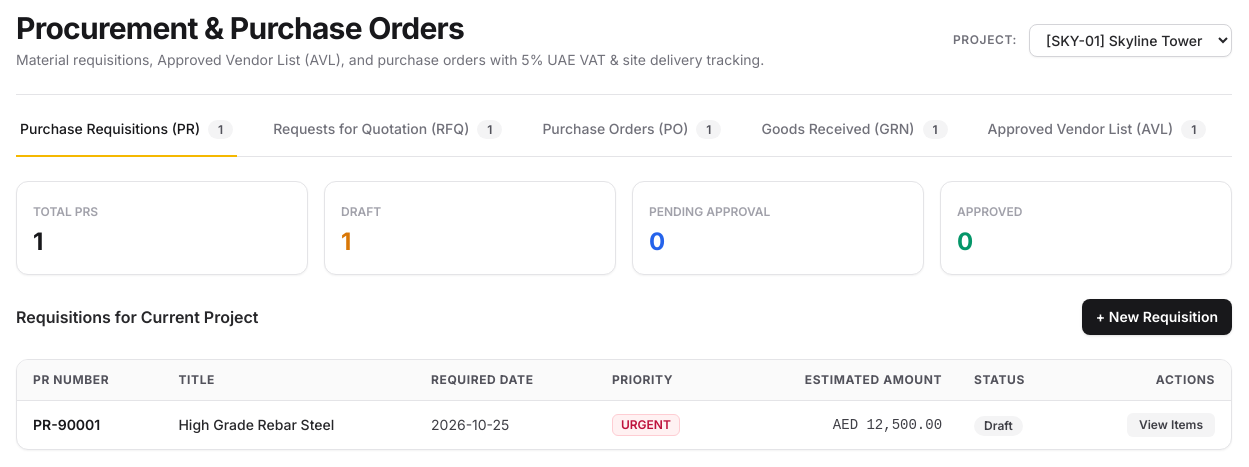
Test: ProcurementPage › switches to GRN tab and displays goods received notes
The width and height of the screenshot is (1249, 467).
Click the button "Goods Received (GRN)1": (854, 138) [757,119,952,157]
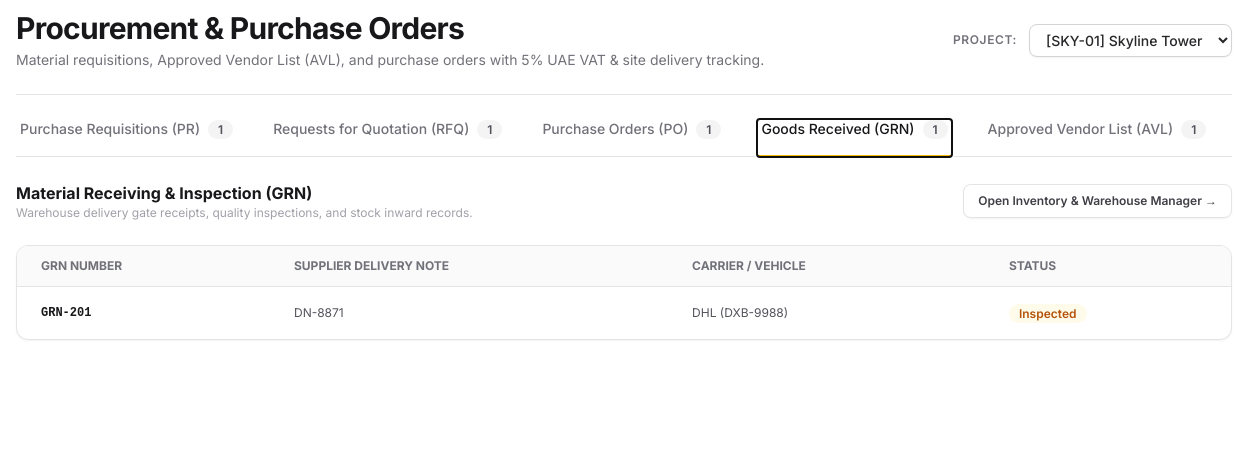
Check: the text "GRN-201" is shown, box [17,286,270,339]
Check: the text "DN-8871" is shown, box [270,286,668,339]
Check: the text "inspected" is shown, box [1009,304,1086,323]
